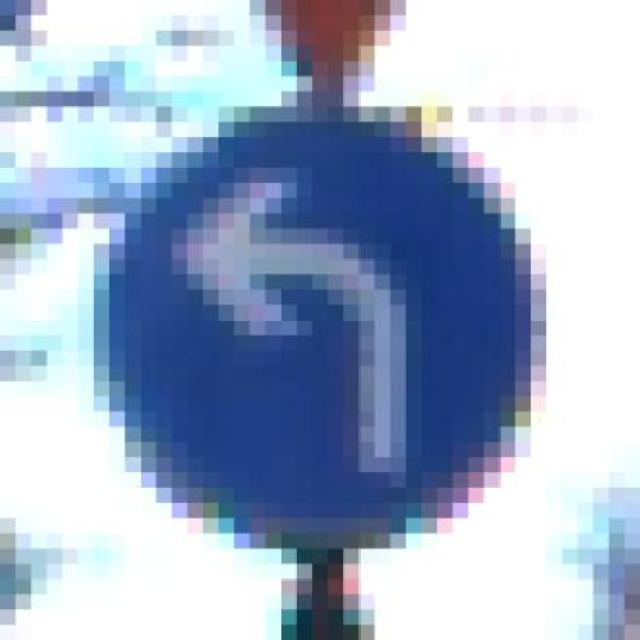Turn left ahead: (94, 92, 546, 579)
